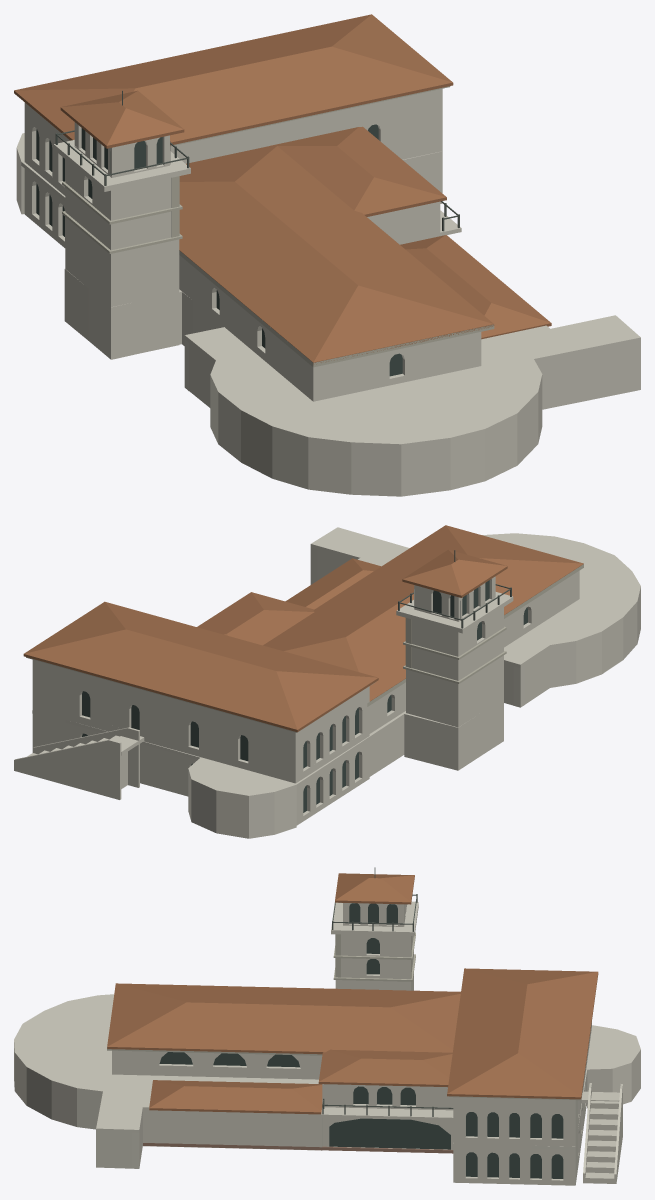
Rendered from museo-arte-costarricense-far.glb.
The picture shows the model from 3 angles, top to bottom: view 1: azimuth 30°, elevation 25°; view 2: azimuth 150°, elevation 25°; view 3: azimuth 270°, elevation 25°; orthographic projection. The views are drawn at different scales.
Visible parts, largest first — view 1: museo-arte-costarricense-0-white, museo-arte-costarricense-0-roof, museo-arte-costarricense-0-trim, museo-arte-costarricense-0-glass; view 2: museo-arte-costarricense-0-white, museo-arte-costarricense-0-roof, museo-arte-costarricense-0-glass, museo-arte-costarricense-0-trim; view 3: museo-arte-costarricense-0-roof, museo-arte-costarricense-0-white, museo-arte-costarricense-0-glass, museo-arte-costarricense-0-trim, museo-arte-costarricense-0-base.
Part boxes in pixels (x1=…): museo-arte-costarricense-0-white: x1=16, y1=88, x2=640, y2=496; museo-arte-costarricense-0-roof: x1=14, y1=14, x2=551, y2=364; museo-arte-costarricense-0-trim: x1=62, y1=86, x2=494, y2=367; museo-arte-costarricense-0-glass: x1=36, y1=124, x2=402, y2=376; museo-arte-costarricense-0-white: x1=14, y1=527, x2=640, y2=838; museo-arte-costarricense-0-roof: x1=23, y1=525, x2=583, y2=732; museo-arte-costarricense-0-glass: x1=82, y1=580, x2=527, y2=812; museo-arte-costarricense-0-trim: x1=26, y1=564, x2=583, y2=732; museo-arte-costarricense-0-roof: x1=107, y1=873, x2=598, y2=1114; museo-arte-costarricense-0-white: x1=14, y1=901, x2=640, y2=1185; museo-arte-costarricense-0-glass: x1=159, y1=903, x2=563, y2=1178; museo-arte-costarricense-0-trim: x1=107, y1=902, x2=579, y2=1100; museo-arte-costarricense-0-base: x1=143, y1=1143, x2=453, y2=1153.
Bounding box in the file's own units: 34.57 × 18.5 × 58.34.
